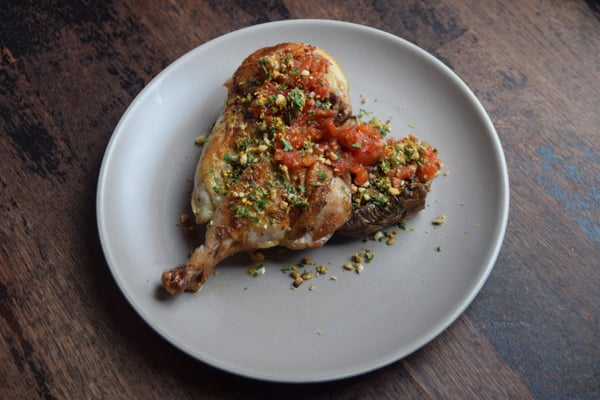curry: (33, 0, 599, 394)
